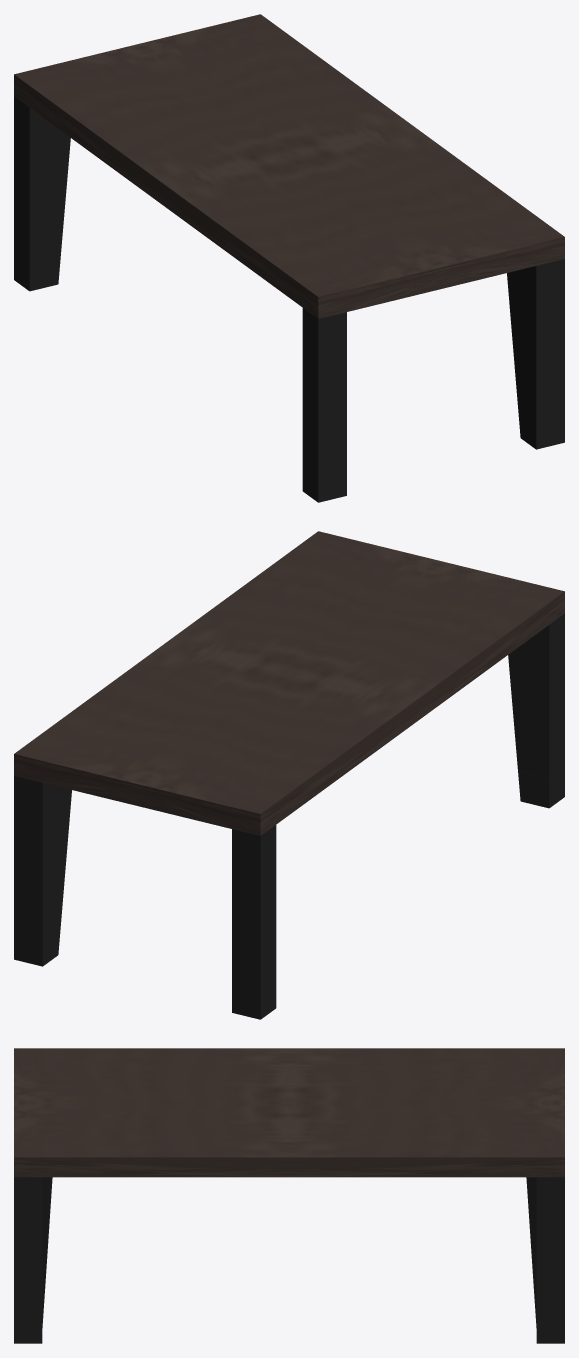
The model's file is table_long.fbx.
The picture shows the model from 3 angles, top to bottom: view 1: azimuth 30°, elevation 25°; view 2: azimuth 150°, elevation 25°; view 3: azimuth 270°, elevation 25°; orthographic projection. The views are drawn at different scales.
Visible parts, largest first — view 1: Cube.003; view 2: Cube.003; view 3: Cube.003.
Boxes of the visible parts, box(x1,y1,x2,y2) form: Cube.003: box(14, 14, 564, 502); Cube.003: box(14, 531, 564, 1019); Cube.003: box(14, 1048, 564, 1343).
Size of the model in its own units: 160 by 127 by 341.
Materials: 2 (2 with a texture image).
